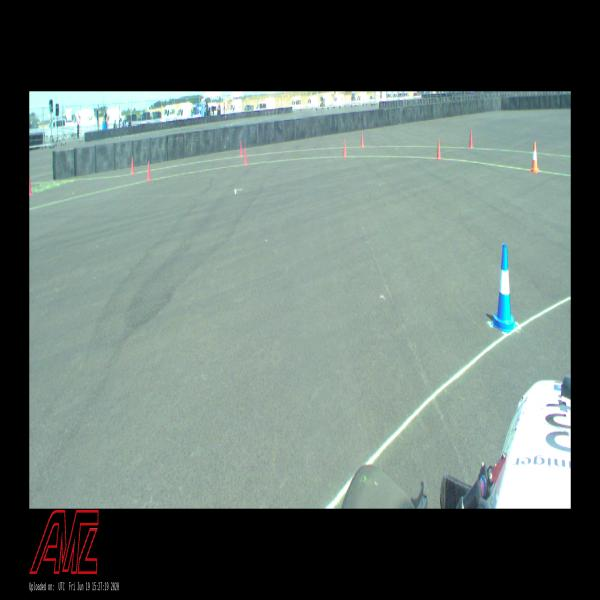blue_cone: (491, 244, 518, 334)
orange_cone: (530, 142, 540, 173)
